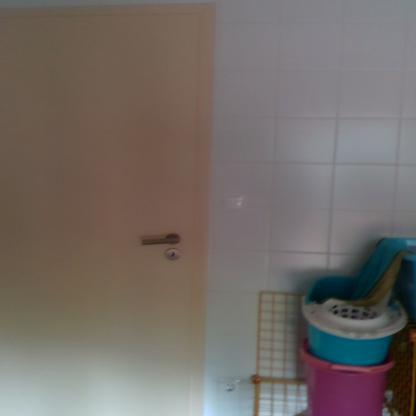door: (1, 15, 202, 416)
lever: (138, 235, 186, 250)
